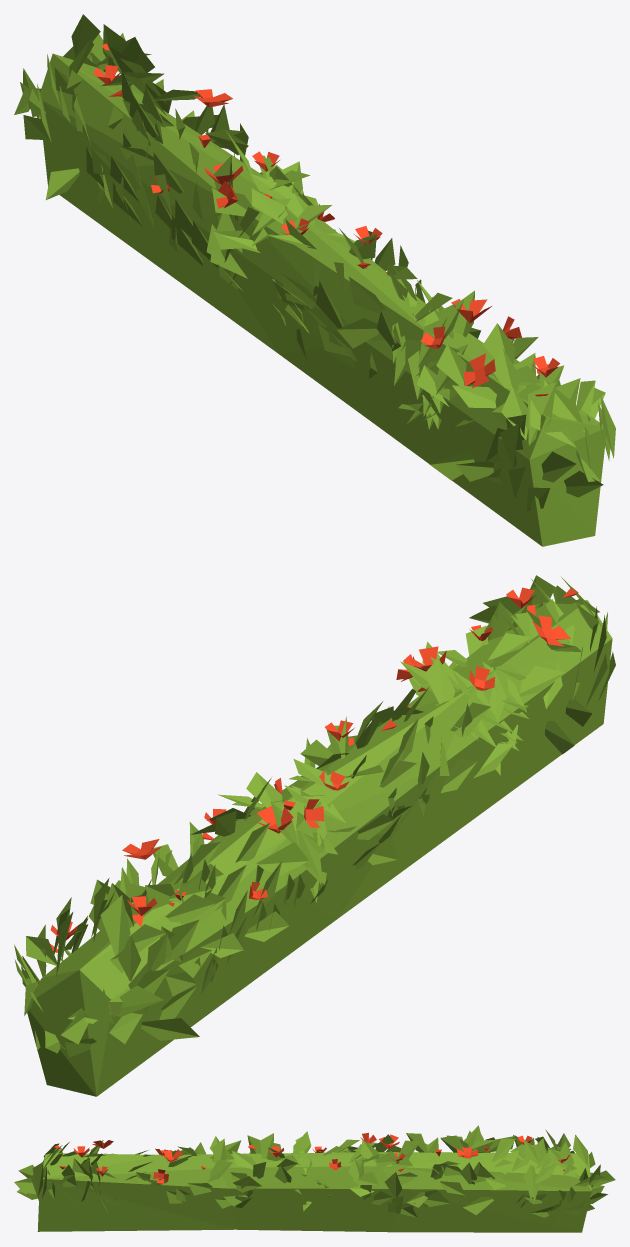
File: SM_Fence_Hedge_City_Short_Flower_3m.fbx
The picture shows the model from 3 angles, top to bottom: view 1: azimuth 30°, elevation 25°; view 2: azimuth 150°, elevation 25°; view 3: azimuth 270°, elevation 25°; orthographic projection. The views are drawn at different scales.
Parts seen in each view (by area): view 1: SM_Fence_Hedge_City_Short_Flower_3m; view 2: SM_Fence_Hedge_City_Short_Flower_3m; view 3: SM_Fence_Hedge_City_Short_Flower_3m.
Boxes of the visible parts, x1=… form: SM_Fence_Hedge_City_Short_Flower_3m: x1=14, y1=14, x2=615, y2=546; SM_Fence_Hedge_City_Short_Flower_3m: x1=14, y1=575, x2=615, y2=1096; SM_Fence_Hedge_City_Short_Flower_3m: x1=14, y1=1125, x2=615, y2=1232.
Bounding box in the file's own units: 0.5382 × 0.5823 × 3.39.
